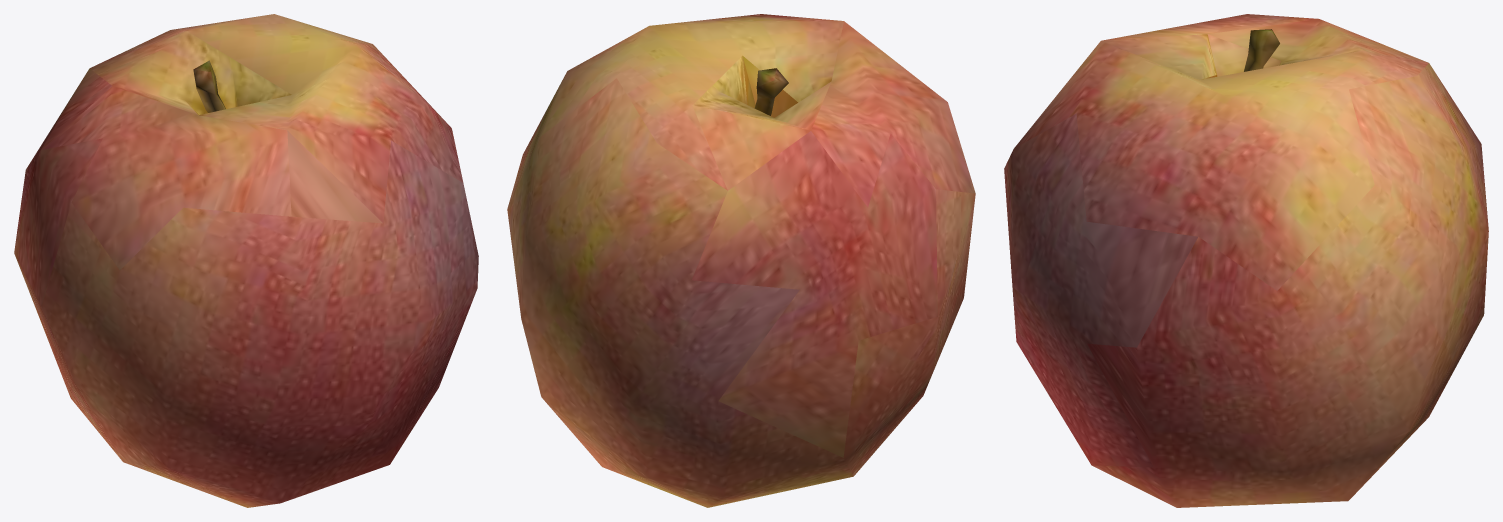
Rendered from mesh_apple.fbx.
The picture shows the model from 3 angles, left to right: view 1: azimuth 30°, elevation 25°; view 2: azimuth 150°, elevation 25°; view 3: azimuth 270°, elevation 25°; orthographic projection. The views are drawn at different scales.
Visible parts, largest first — view 1: apple; view 2: apple; view 3: apple.
Boxes of the visible parts, x1,y1,x2,y2 form: apple: [14, 14, 478, 507]; apple: [507, 14, 975, 507]; apple: [1004, 14, 1488, 507].
Size of the model in its own units: 17.91 by 17.19 by 17.89.
1 material, 1 textured.
